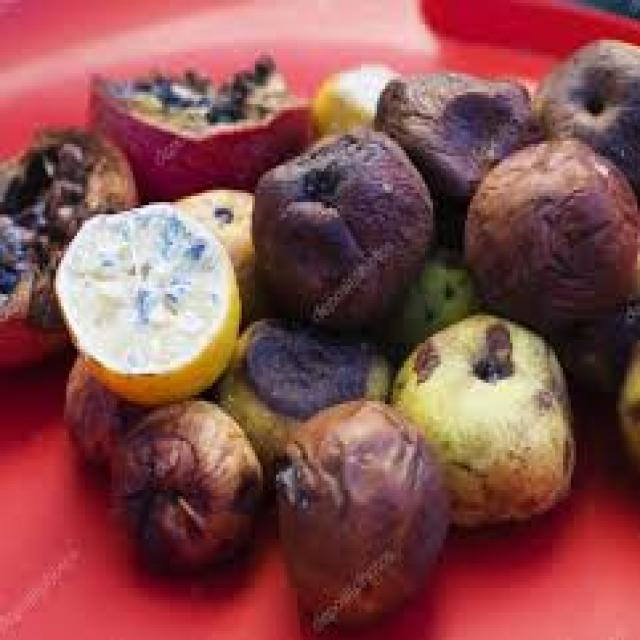organic waste: (271, 395, 451, 622), (385, 309, 574, 524), (250, 122, 436, 330), (457, 132, 637, 340), (53, 199, 236, 401), (82, 49, 308, 205), (0, 123, 133, 364), (106, 392, 258, 576), (220, 312, 393, 453), (374, 67, 534, 202), (534, 34, 637, 178), (173, 184, 252, 328), (382, 248, 481, 337), (61, 352, 136, 469), (308, 55, 396, 135), (608, 313, 637, 472)
